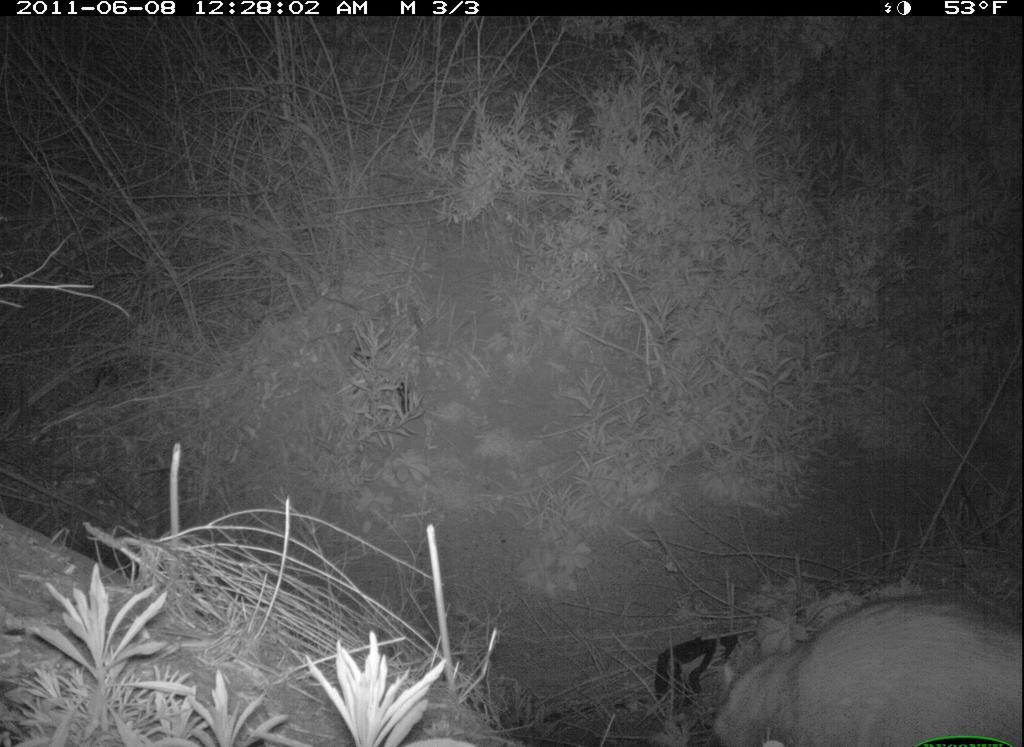raccoon: (706, 589, 1021, 742)
